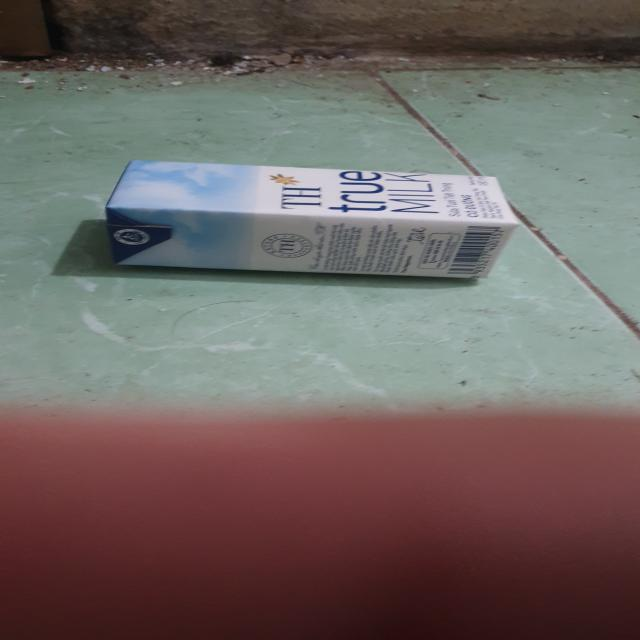TH: (103, 157, 523, 283)
